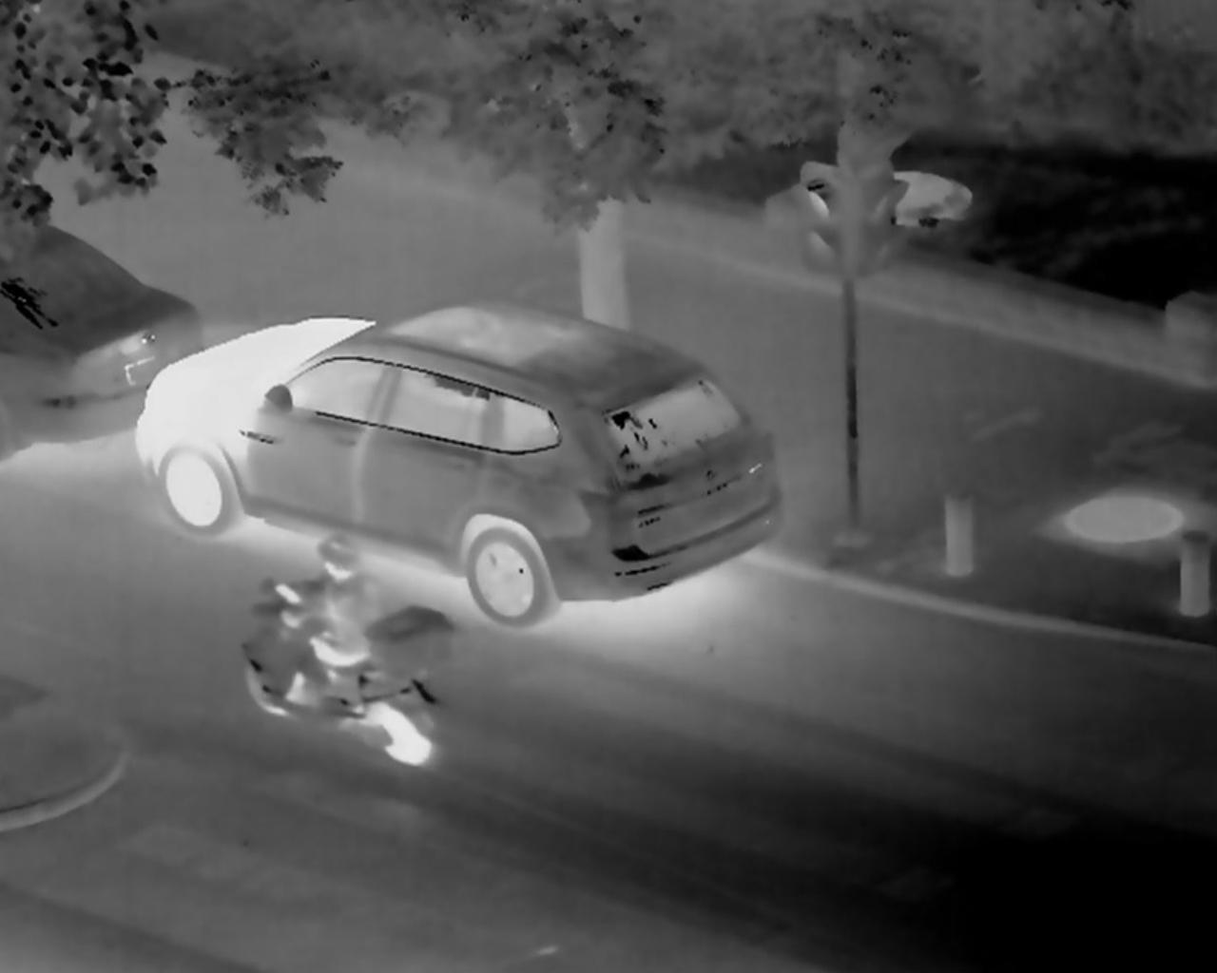person: (285, 533, 419, 742)
